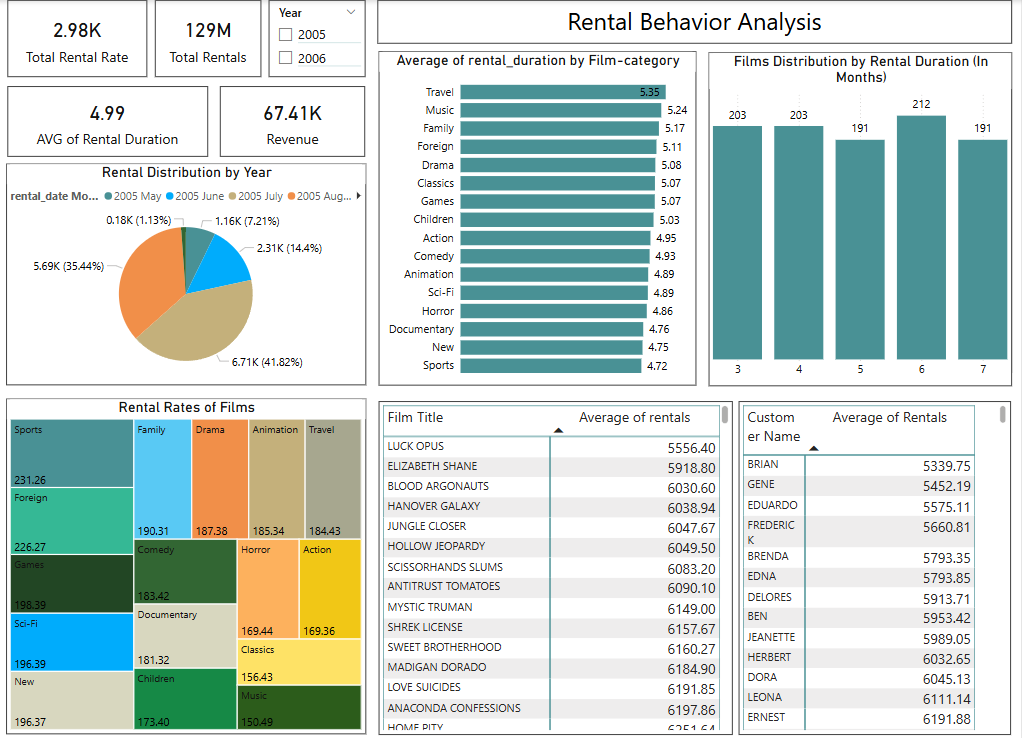

The page's visual inventory and layout, read from the dashboard file:
{"tool":"powerbi","page":{"name":"Rental Analysis","canvas":[1370,1000],"ordinal":3},"visuals":[{"type":"textbox","box":[505.6,0,850.3,58.8],"z":0},{"type":"clusteredColumnChart","title":"Films Distribution by Rental Duration (In Months)","fields":{"Category":["film.rental_duration"],"Y":["CountNonNull(film.film_id)"]},"box":[949.3,69.6,406.6,446.8],"z":1000},{"type":"clusteredBarChart","title":"Average of rental_duration by Film-category","fields":{"Category":["category.name"],"Y":["Avg(film.rental_duration)"]},"box":[507.2,68.9,425.8,447.7],"z":2000},{"type":"treemap","title":"Rental Rates of Films","fields":{"Group":["category.name"],"Values":["Sum(film.rental_rate)"]},"box":[7.7,534.8,482.2,449.8],"z":3000},{"type":"card","title":"Total Rentals","fields":{"Values":["Sum(rentat.rental_id)"]},"box":[207.2,0,142.2,103.6],"z":4000},{"type":"card","fields":{"Values":["Avg(film.rental_duration)"]},"box":[9.7,115.5,268.5,94.6],"z":5000},{"type":"card","fields":{"Values":["Sum(film.rental_rate)"]},"box":[9.3,0,187.1,103.6],"z":6000},{"type":"pieChart","title":"Rental Distribution  by Year","fields":{"Category":["rentat.rental_date.Variation.Date Hierarchy.Year","rentat.rental_date.Variation.Date Hierarchy.Month"],"Y":["CountNonNull(rentat.rental_id)"]},"box":[7.7,219.5,482.2,296.8],"z":7000},{"type":"pivotTable","title":"Rentals by Customer ","fields":{"Rows":["customer.first_name"],"Values":["Avg(rentat.rental_id)"]},"box":[991,538,364.9,446.8],"z":8000},{"type":"pivotTable","title":"Rentals by Film Title","fields":{"Rows":["film.title"],"Values":["Avg(rentat.rental_id)"]},"box":[507.1,538,474.6,446.8],"z":9000},{"type":"card","fields":{"Values":["payment.Revenue"]},"box":[294.9,115.5,194.7,94.6],"z":10000},{"type":"slicer","fields":{"Values":["rentat.rental_date.Variation.Date Hierarchy.Year"]},"box":[360.2,0,129.9,103.6],"z":11000}]}

Visuals, with their boxes in screenshot pixels (x1, y1, x2, y2), scaled from the page's 1370x1000 canvas onto the 1022x738 screenshot:
textbox: [left=377, top=0, right=1011, bottom=43]
"Films Distribution by Rental Duration (In Months)" clusteredColumnChart: [left=708, top=51, right=1011, bottom=381]
"Average of rental_duration by Film-category" clusteredBarChart: [left=378, top=51, right=696, bottom=381]
"Rental Rates of Films" treemap: [left=6, top=395, right=365, bottom=727]
"Total Rentals" card: [left=155, top=0, right=261, bottom=76]
card - Avg(film.rental_duration): [left=7, top=85, right=208, bottom=155]
card - Sum(film.rental_rate): [left=7, top=0, right=147, bottom=76]
"Rental Distribution  by Year" pieChart: [left=6, top=162, right=365, bottom=381]
"Rentals by Customer " pivotTable: [left=739, top=397, right=1011, bottom=727]
"Rentals by Film Title" pivotTable: [left=378, top=397, right=732, bottom=727]
card - payment.Revenue: [left=220, top=85, right=365, bottom=155]
slicer - rentat.rental_date.Variation.Date Hierarchy.Year: [left=269, top=0, right=366, bottom=76]
